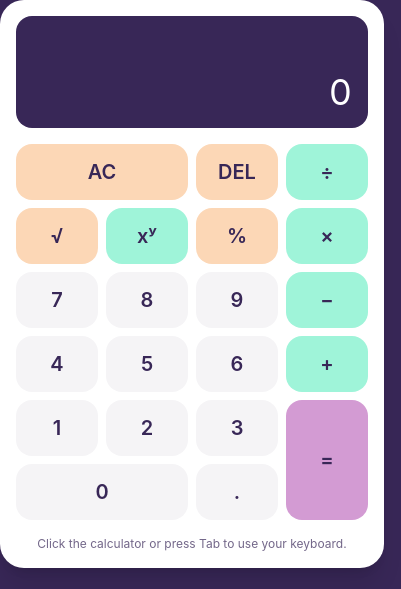
Calculator › shows a network error message when the request fails
What coordinates should you click on to do the following:
click the button "5"
I would click on:
 (147, 364)
Its box is [106,336,188,392].
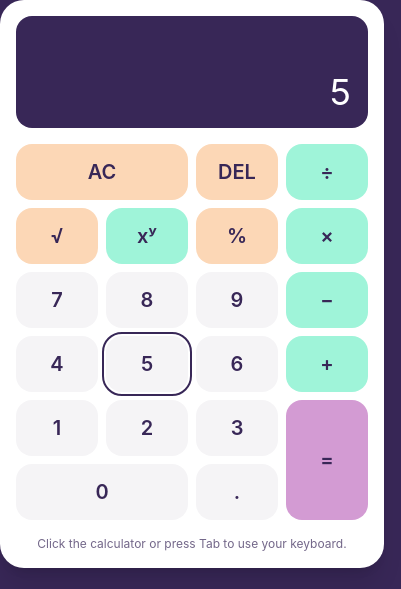
What coordinates should you click on to do the following:
click the button named "Add"
I would click on:
 (327, 364)
Its box is [286,336,368,392].
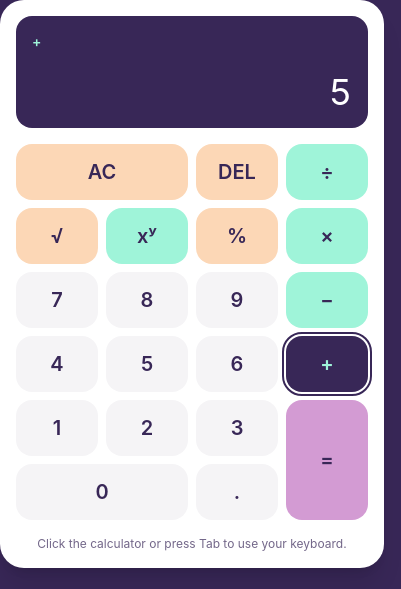
What coordinates should you click on to do the following:
click the button "3"
I would click on:
 (237, 428)
Its box is [196,400,278,456].
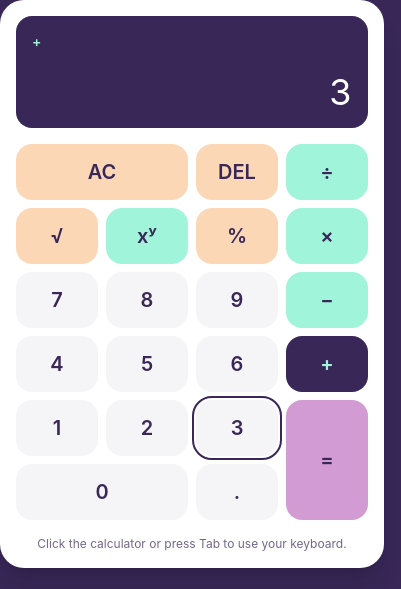
What coordinates should you click on to do the following:
click the button named "Equals"
I would click on:
 (327, 460)
Its box is [286,400,368,520].
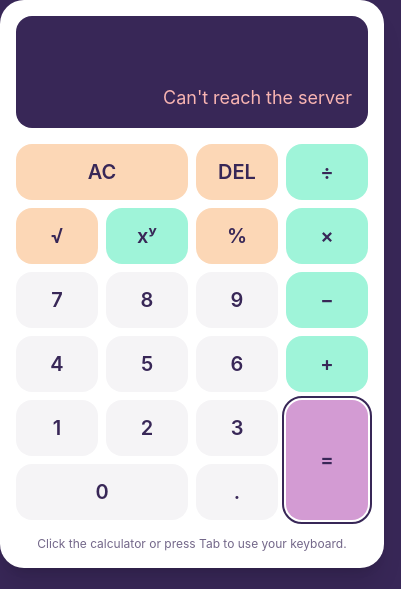
expect the text "Can't reach the server" is shown: met, box [163,87,352,108]
